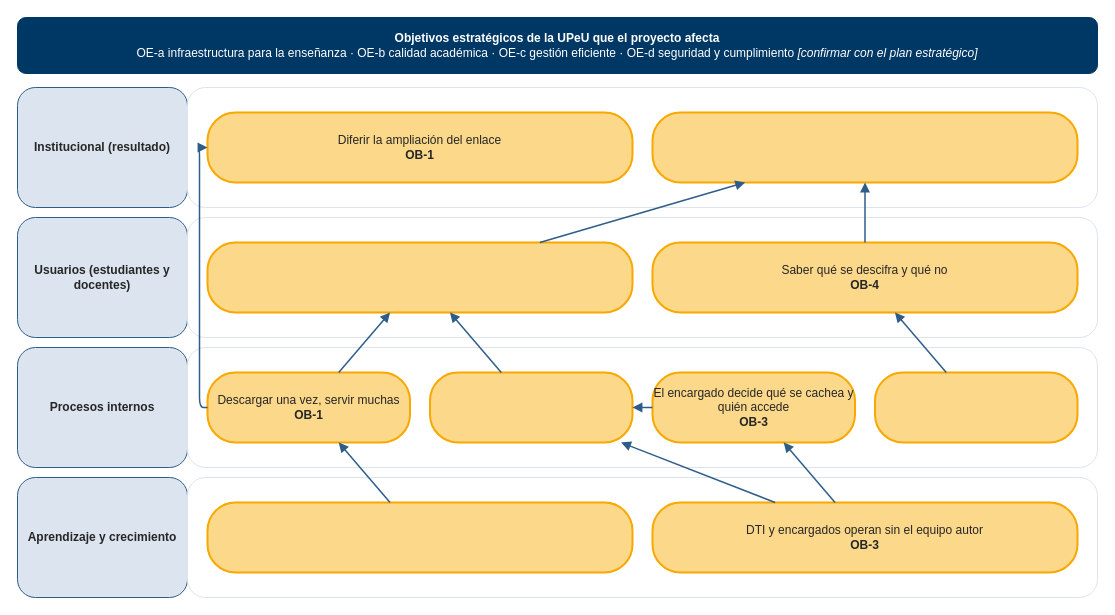
The diagram is 1115 pixels wide and 615 high, and some of its shapes have lost their labels. The shapes that lost their labels are listed below. From the top down, each one's centre as x and y in pixels, then its label:
At pixel 864 147: "Imagen de laboratorios confiables OB-2".
At pixel 419 277: "Clases sin esperas por descargas OB-2".
At pixel 530 407: "Preparar el laboratorio con precarga OB-2".
At pixel 976 407: "Detectar el abuso del servicio OB-5".
At pixel 419 537: "Medir el desperdicio por laboratorio OB-1".
